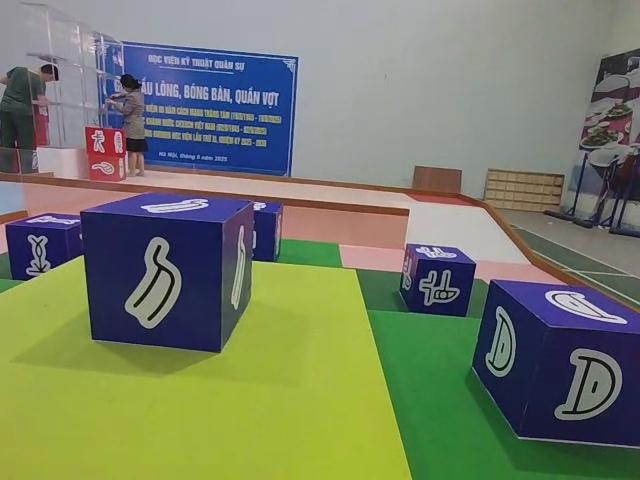R2 Real Blue: (474, 278, 640, 452), (88, 193, 257, 356), (398, 244, 476, 318), (2, 215, 84, 284)
